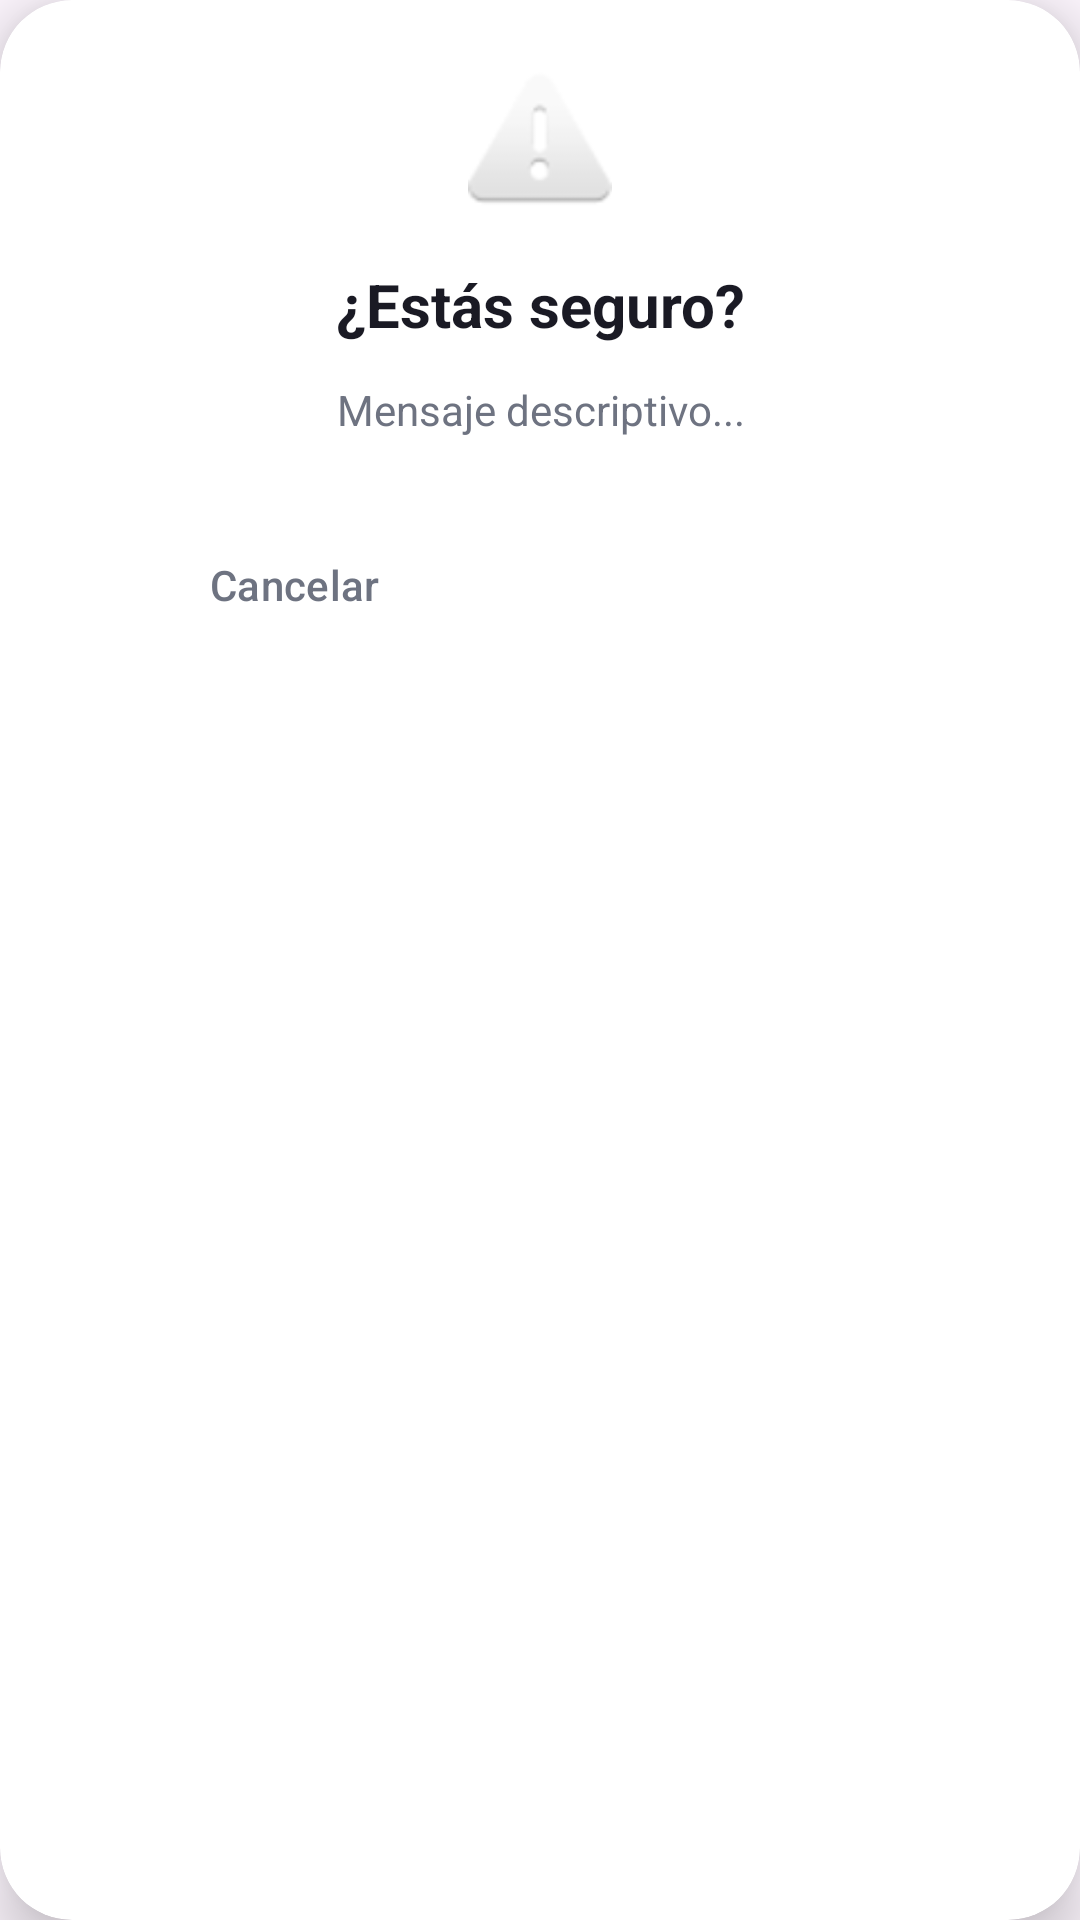

Where to tap for icons on this 1080×1920 app screen, as (x,y):
alert: (540,154)
